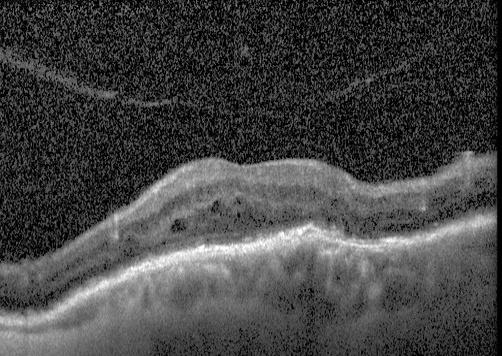intraretinal_cyst: (171, 219, 186, 233), (210, 199, 220, 214), (329, 197, 339, 206), (235, 198, 242, 205)
vitreous_detachment: (2, 44, 435, 119)
